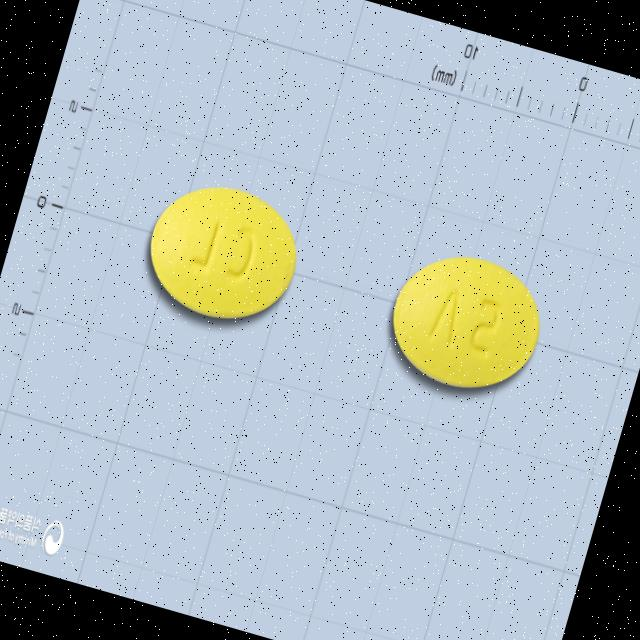CLARIUM: (372, 234, 558, 410), (130, 165, 313, 338)
